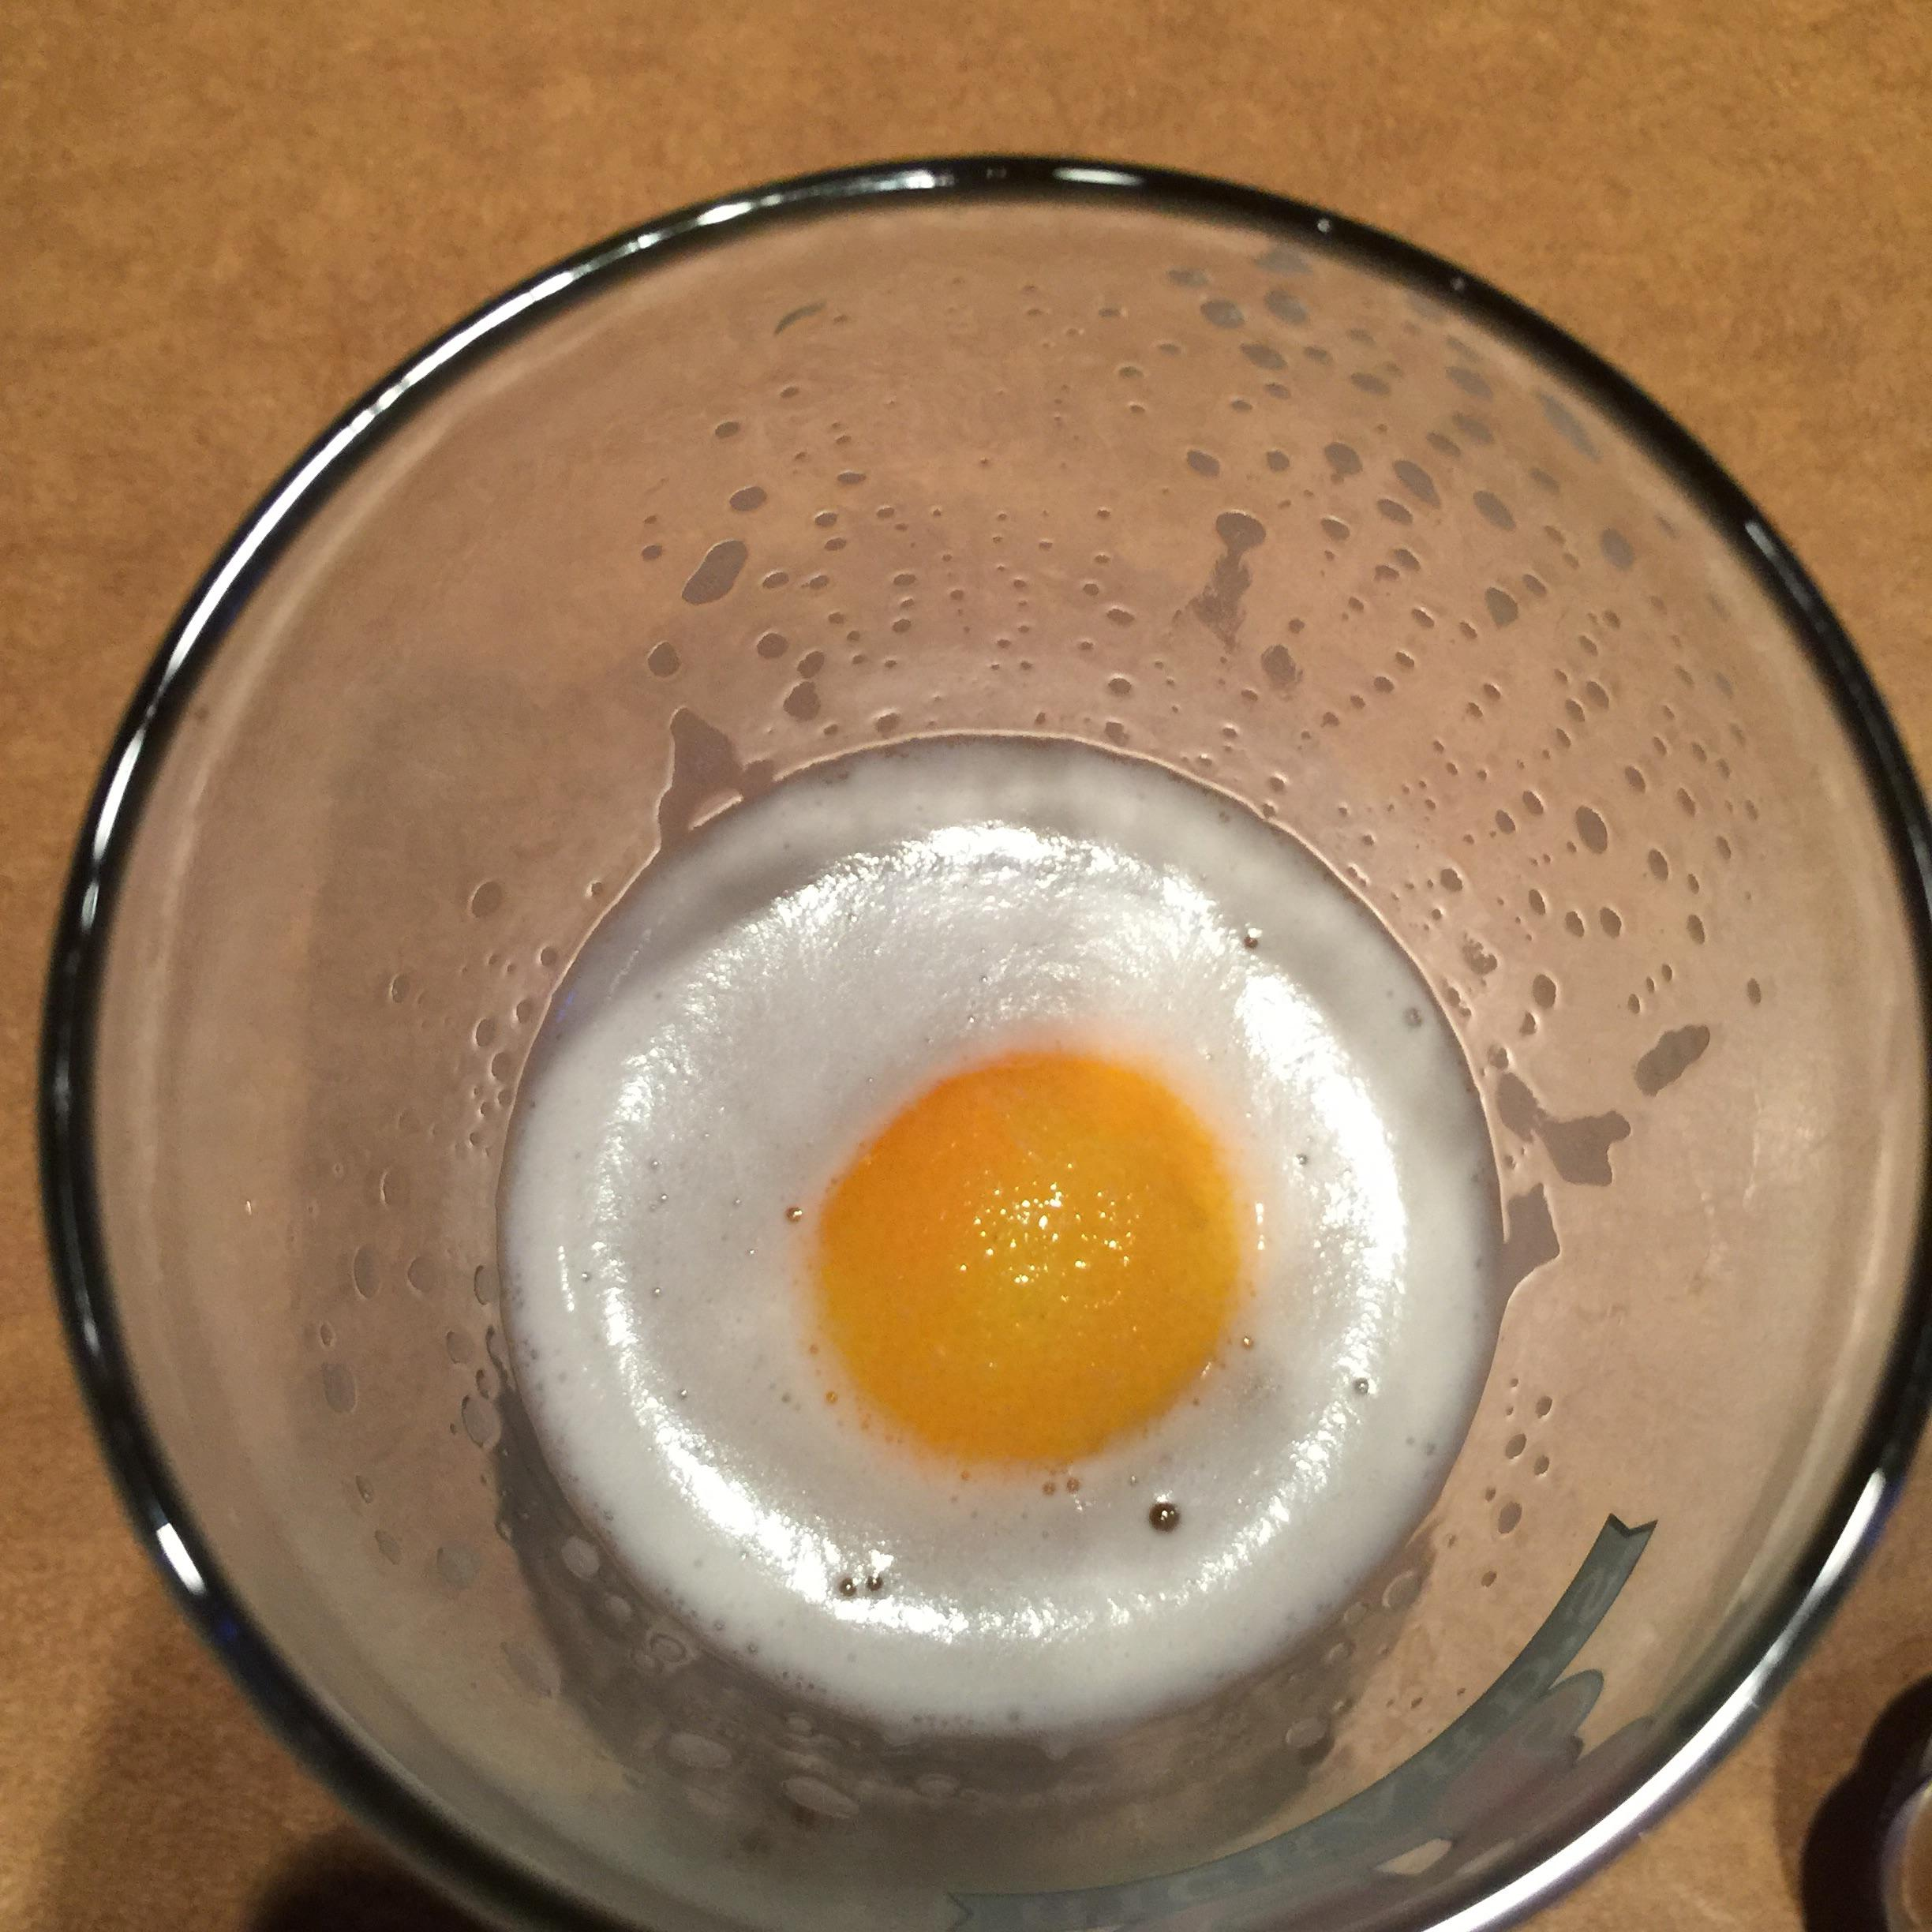fried egg: (683, 886, 1339, 1619)
